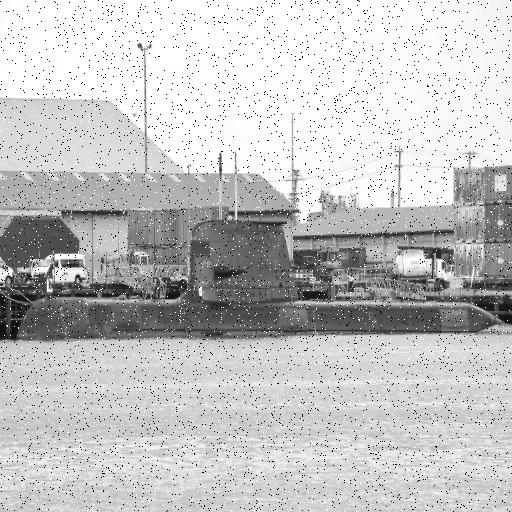submarine: (17, 219, 504, 342)
